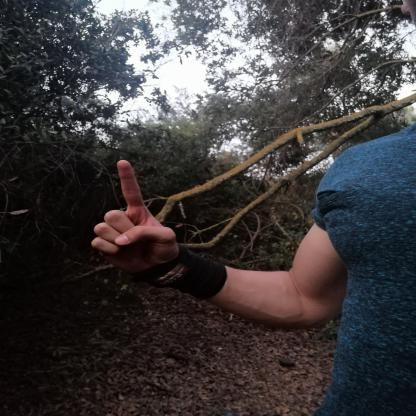BAA: (79, 152, 187, 290)
